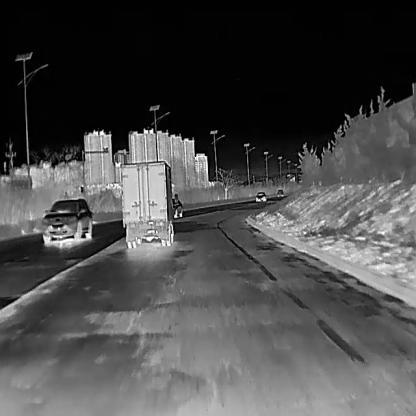car: (120, 159, 177, 247), (40, 197, 91, 243), (171, 197, 183, 218), (254, 190, 266, 201), (276, 188, 284, 196)
